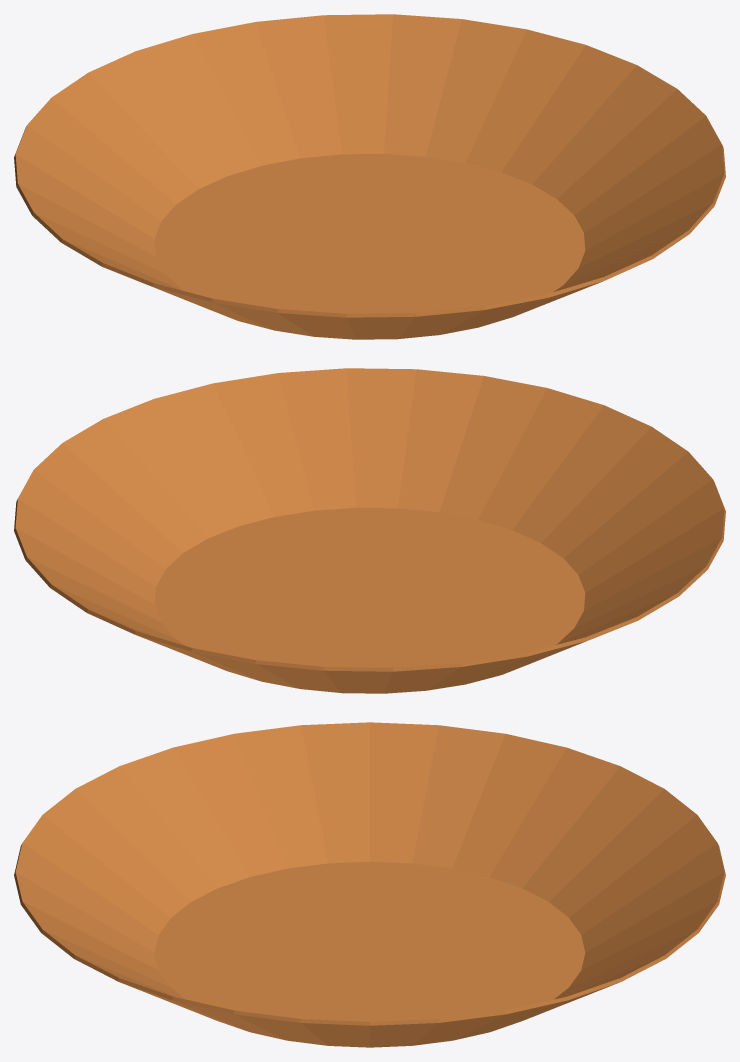
File: plate.obj
3 views of the same model, one above another, from view 1: azimuth 30°, elevation 25°; view 2: azimuth 150°, elevation 25°; view 3: azimuth 270°, elevation 25° (orthographic).
Visible parts, largest first — view 1: Cylinder; view 2: Cylinder; view 3: Cylinder.
Boxes of the visible parts, left/top/right/bottom form: Cylinder: left=14, top=14, right=725, bottom=339; Cylinder: left=14, top=368, right=725, bottom=693; Cylinder: left=14, top=722, right=725, bottom=1047.
Size of the model in its own units: 0.092 by 0.012 by 0.092.
